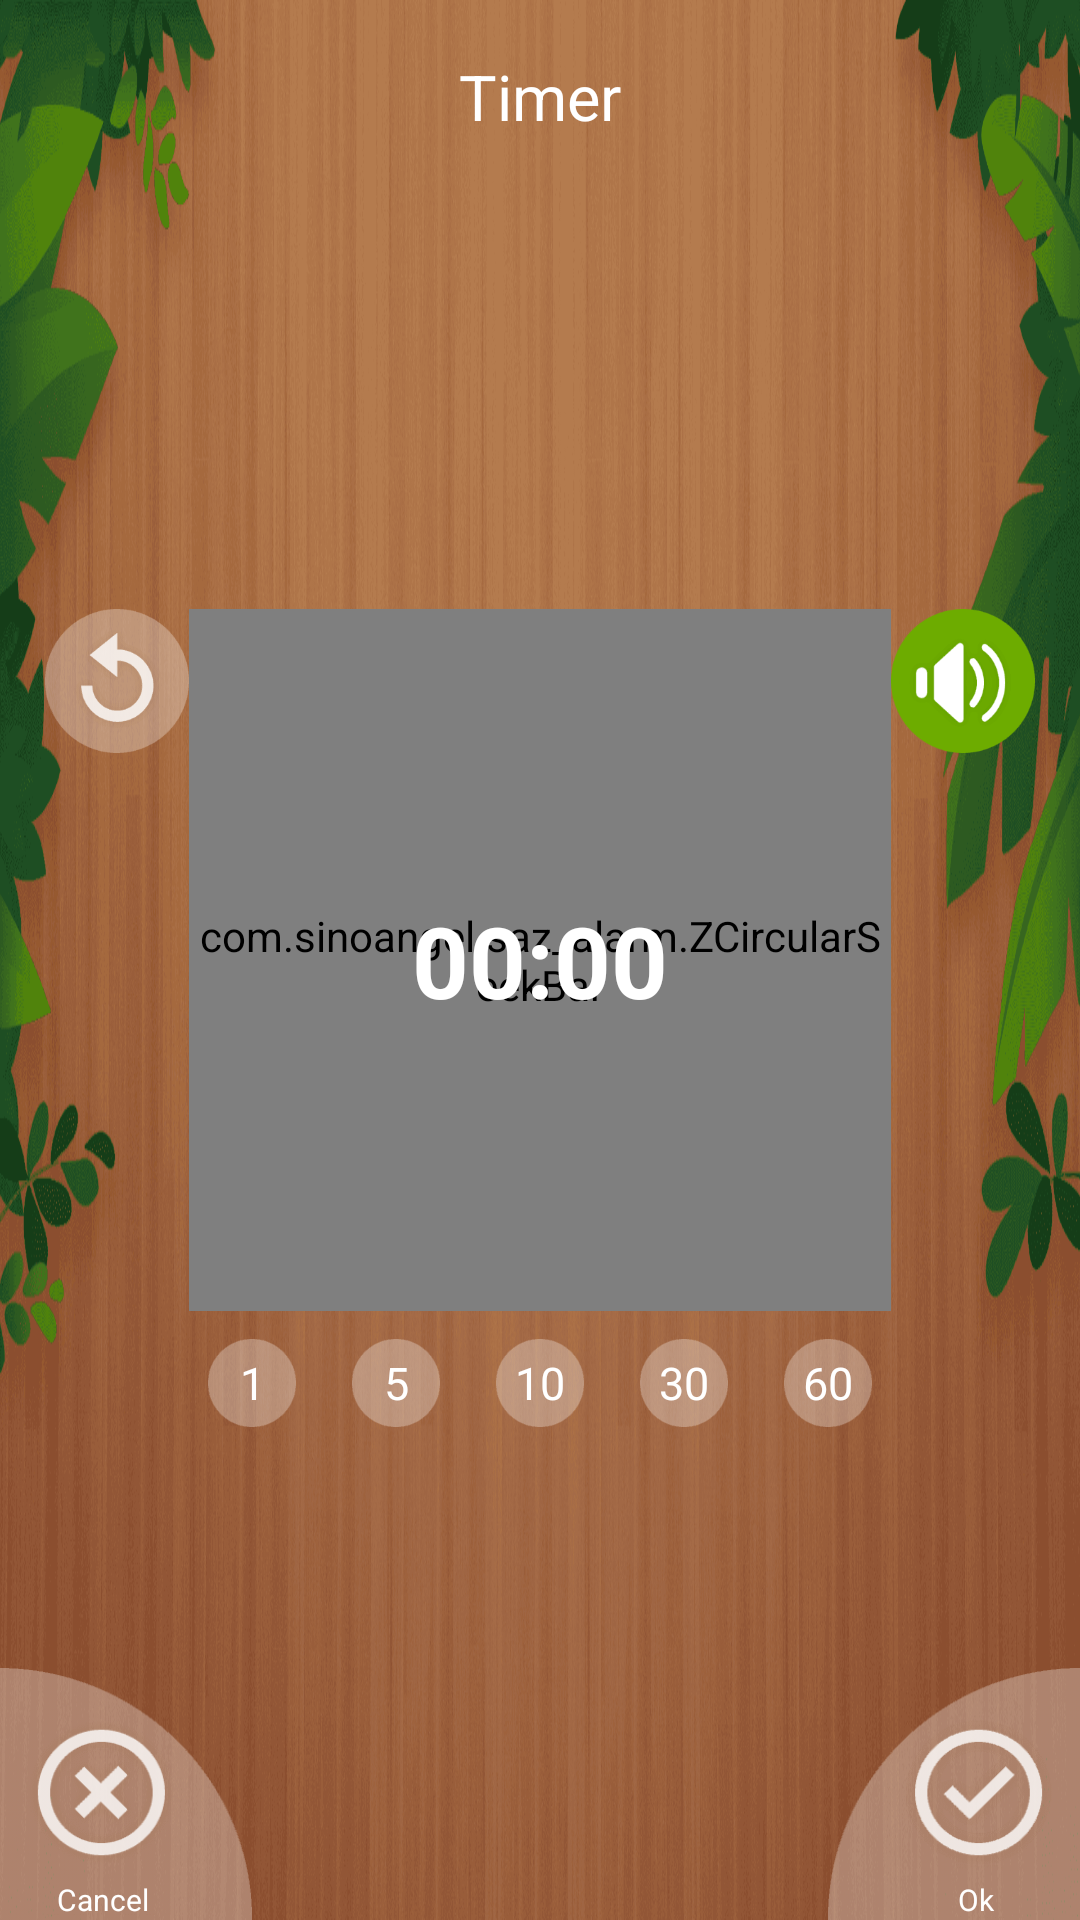

Icon click points for this 1080×1920 phone screenshot, format (x,y):
alarm reset: (117,681)
